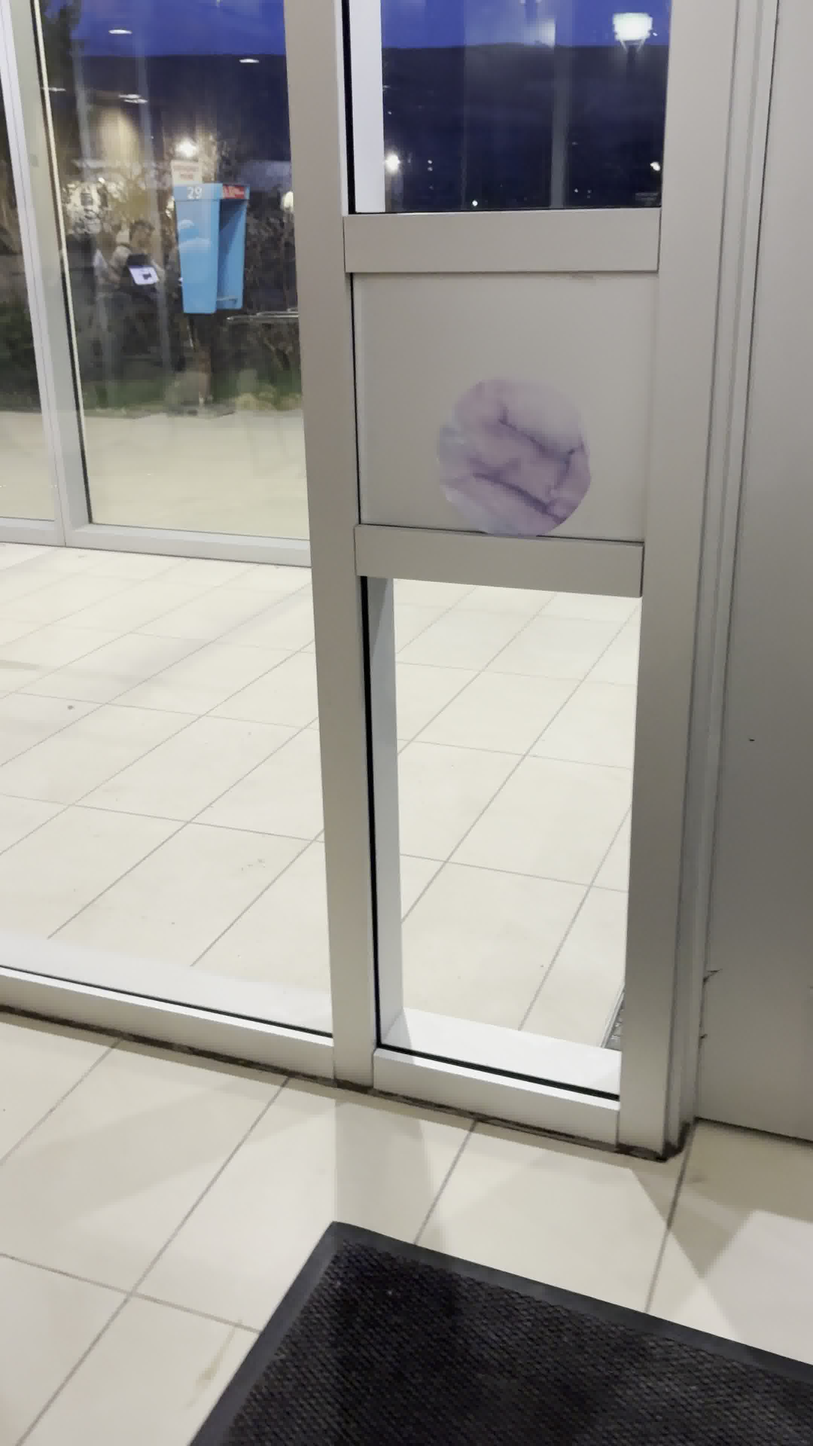Target: (433, 373, 595, 541)
